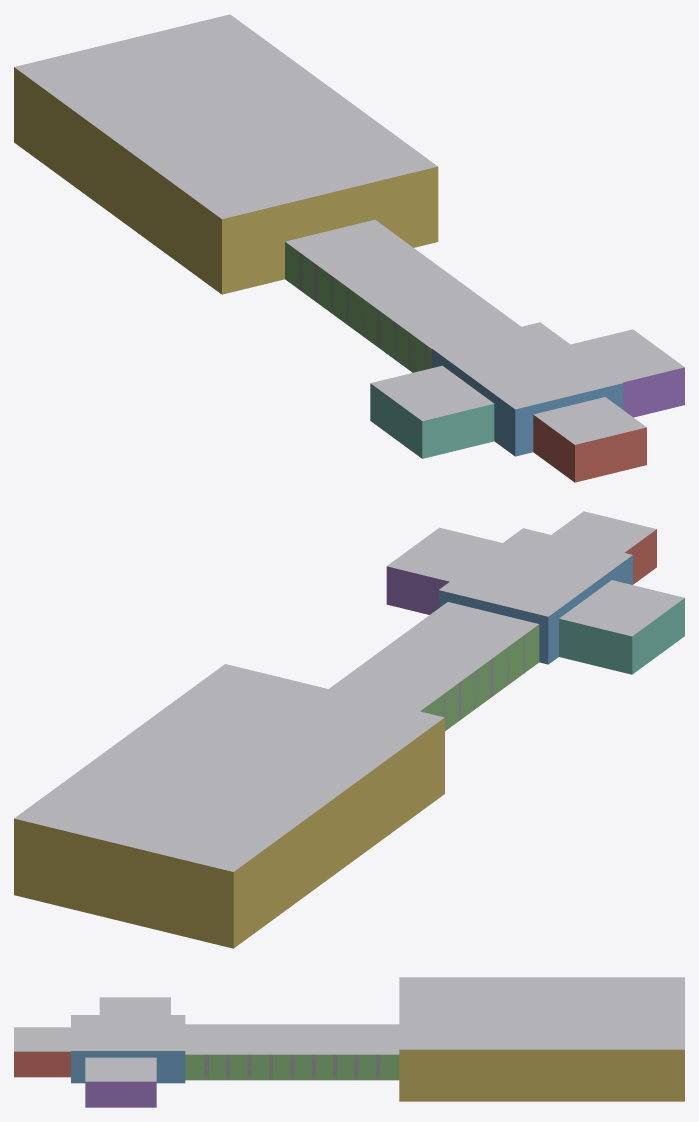
Rendered from level_fps.obj.
The picture shows the model from 3 angles, top to bottom: view 1: azimuth 30°, elevation 25°; view 2: azimuth 150°, elevation 25°; view 3: azimuth 270°, elevation 25°; orthographic projection. The views are drawn at different scales.
Parts seen in each view (by area): view 1: D_far, C_gallery, B_hall, F_annex, A_spawn, E_side; view 2: D_far, C_gallery, B_hall, F_annex, E_side, A_spawn; view 3: D_far, C_gallery, B_hall, E_side, A_spawn, F_annex.
Part boxes in pixels (<box>): D_far: <box>14,14,438,294</box>; C_gallery: <box>285,219,520,372</box>; B_hall: <box>432,322,623,456</box>; F_annex: <box>370,365,494,458</box>; A_spawn: <box>533,397,646,482</box>; E_side: <box>571,329,684,417</box>; D_far: <box>14,664,444,948</box>; C_gallery: <box>329,602,539,730</box>; B_hall: <box>438,528,632,664</box>; F_annex: <box>559,580,684,674</box>; E_side: <box>386,527,502,614</box>; A_spawn: <box>552,511,656,584</box>; D_far: <box>399,977,684,1101</box>; C_gallery: <box>185,1024,399,1080</box>; B_hall: <box>71,1015,185,1083</box>; E_side: <box>85,1057,156,1107</box>; A_spawn: <box>14,1027,70,1077</box>; F_annex: <box>99,997,170,1014</box>.
Size of the model in its own units: 28 by 8 by 94.
